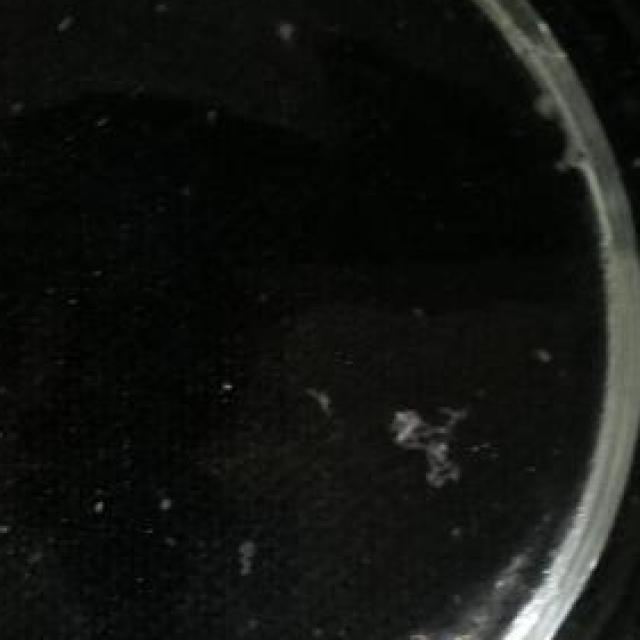Microplastic: (382, 376, 472, 495), (549, 131, 603, 183), (510, 83, 574, 124), (230, 521, 267, 585), (260, 15, 303, 52)
